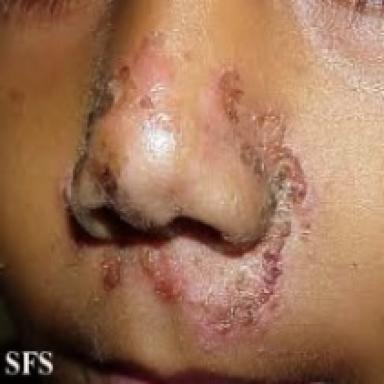Impetigo: (89, 65, 320, 354), (56, 17, 178, 235)
